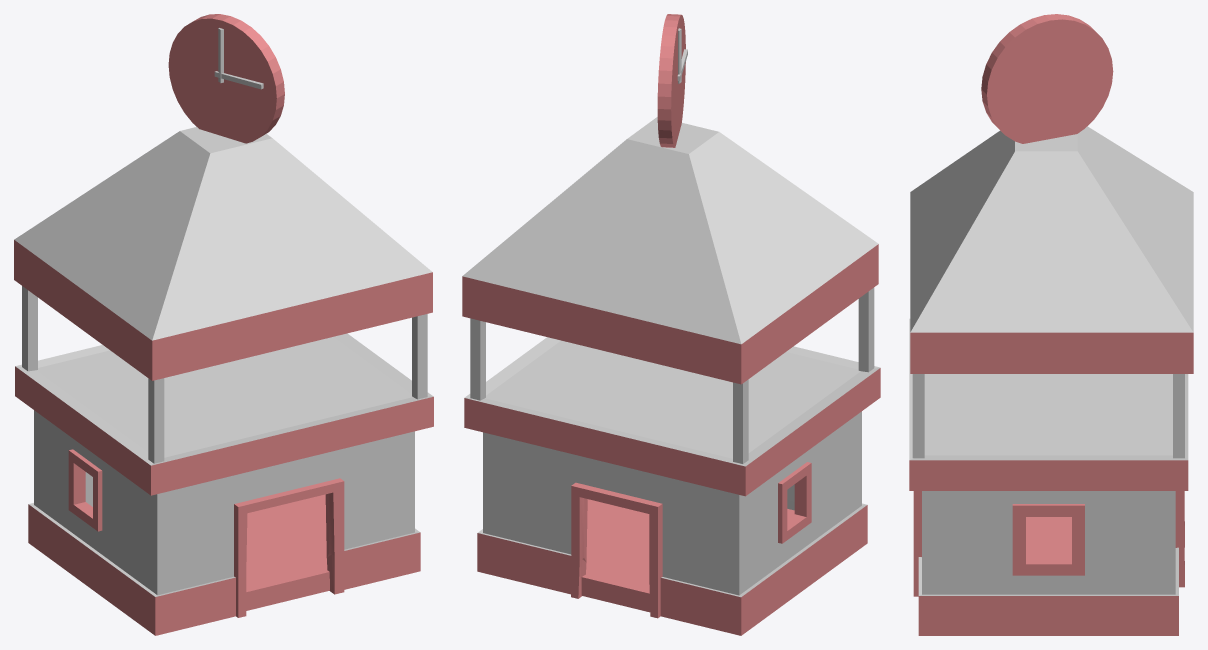
The model's file is building.fbx.
The picture shows the model from 3 angles, left to right: view 1: azimuth 30°, elevation 25°; view 2: azimuth 150°, elevation 25°; view 3: azimuth 270°, elevation 25°; orthographic projection. The views are drawn at different scales.
Parts seen in each view (by area): view 1: Cube.001; view 2: Cube.001; view 3: Cube.001.
Boxes of the visible parts, x1,y1,x2,y2 form: Cube.001: (14,14,433,635); Cube.001: (462,14,880,635); Cube.001: (909,14,1193,635).
Bounding box in the file's own units: 258 × 470 × 219.
